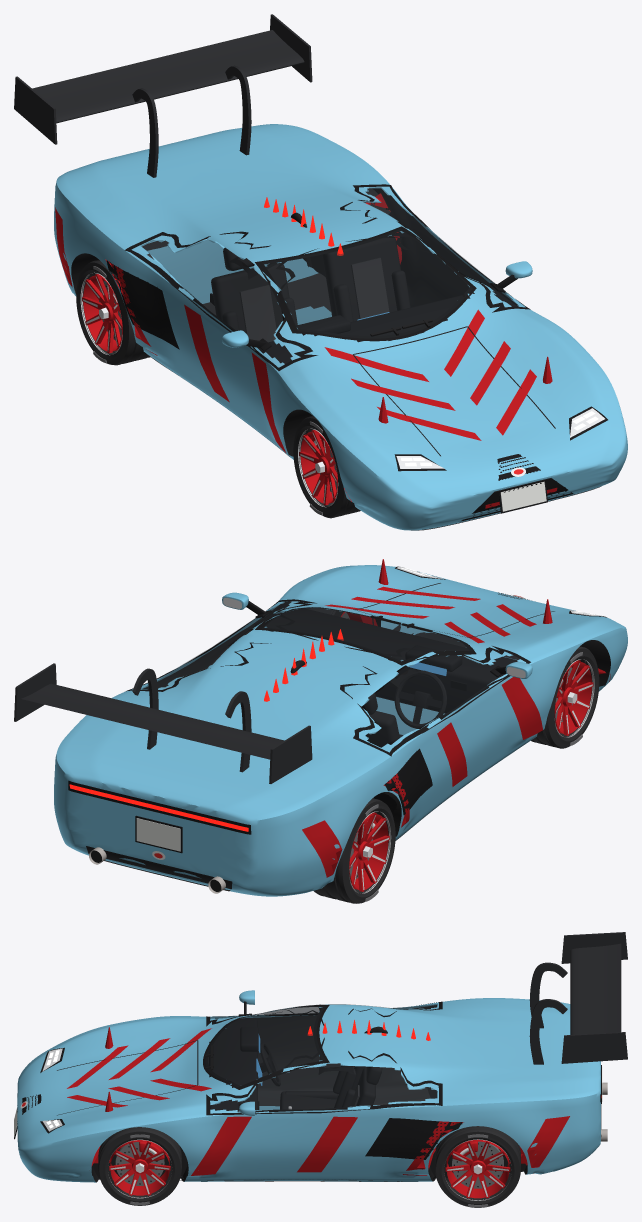
Rendered from tora.glb.
3 views of the same model, one above another, from view 1: azimuth 30°, elevation 25°; view 2: azimuth 150°, elevation 25°; view 3: azimuth 270°, elevation 25° (orthographic). The views are drawn at different scales.
Visible parts, largest first — view 1: Body, Wheel_RR, Wheel_FR; view 2: Body, Wheel_RR, Wheel_FR; view 3: Body, Wheel_RL, Wheel_FL.
Boxes of the visible parts, <box> form: Body: <box>14,14,627,530</box>; Wheel_RR: <box>76,259,150,365</box>; Wheel_FR: <box>293,416,360,518</box>; Body: <box>14,559,627,896</box>; Wheel_RR: <box>313,798,395,903</box>; Wheel_FR: <box>531,646,599,748</box>; Body: <box>14,932,627,1182</box>; Wheel_RL: <box>435,1126,520,1207</box>; Wheel_FL: <box>98,1127,181,1205</box>.
Size of the model in its own units: 2.31 by 1.57 by 5.
